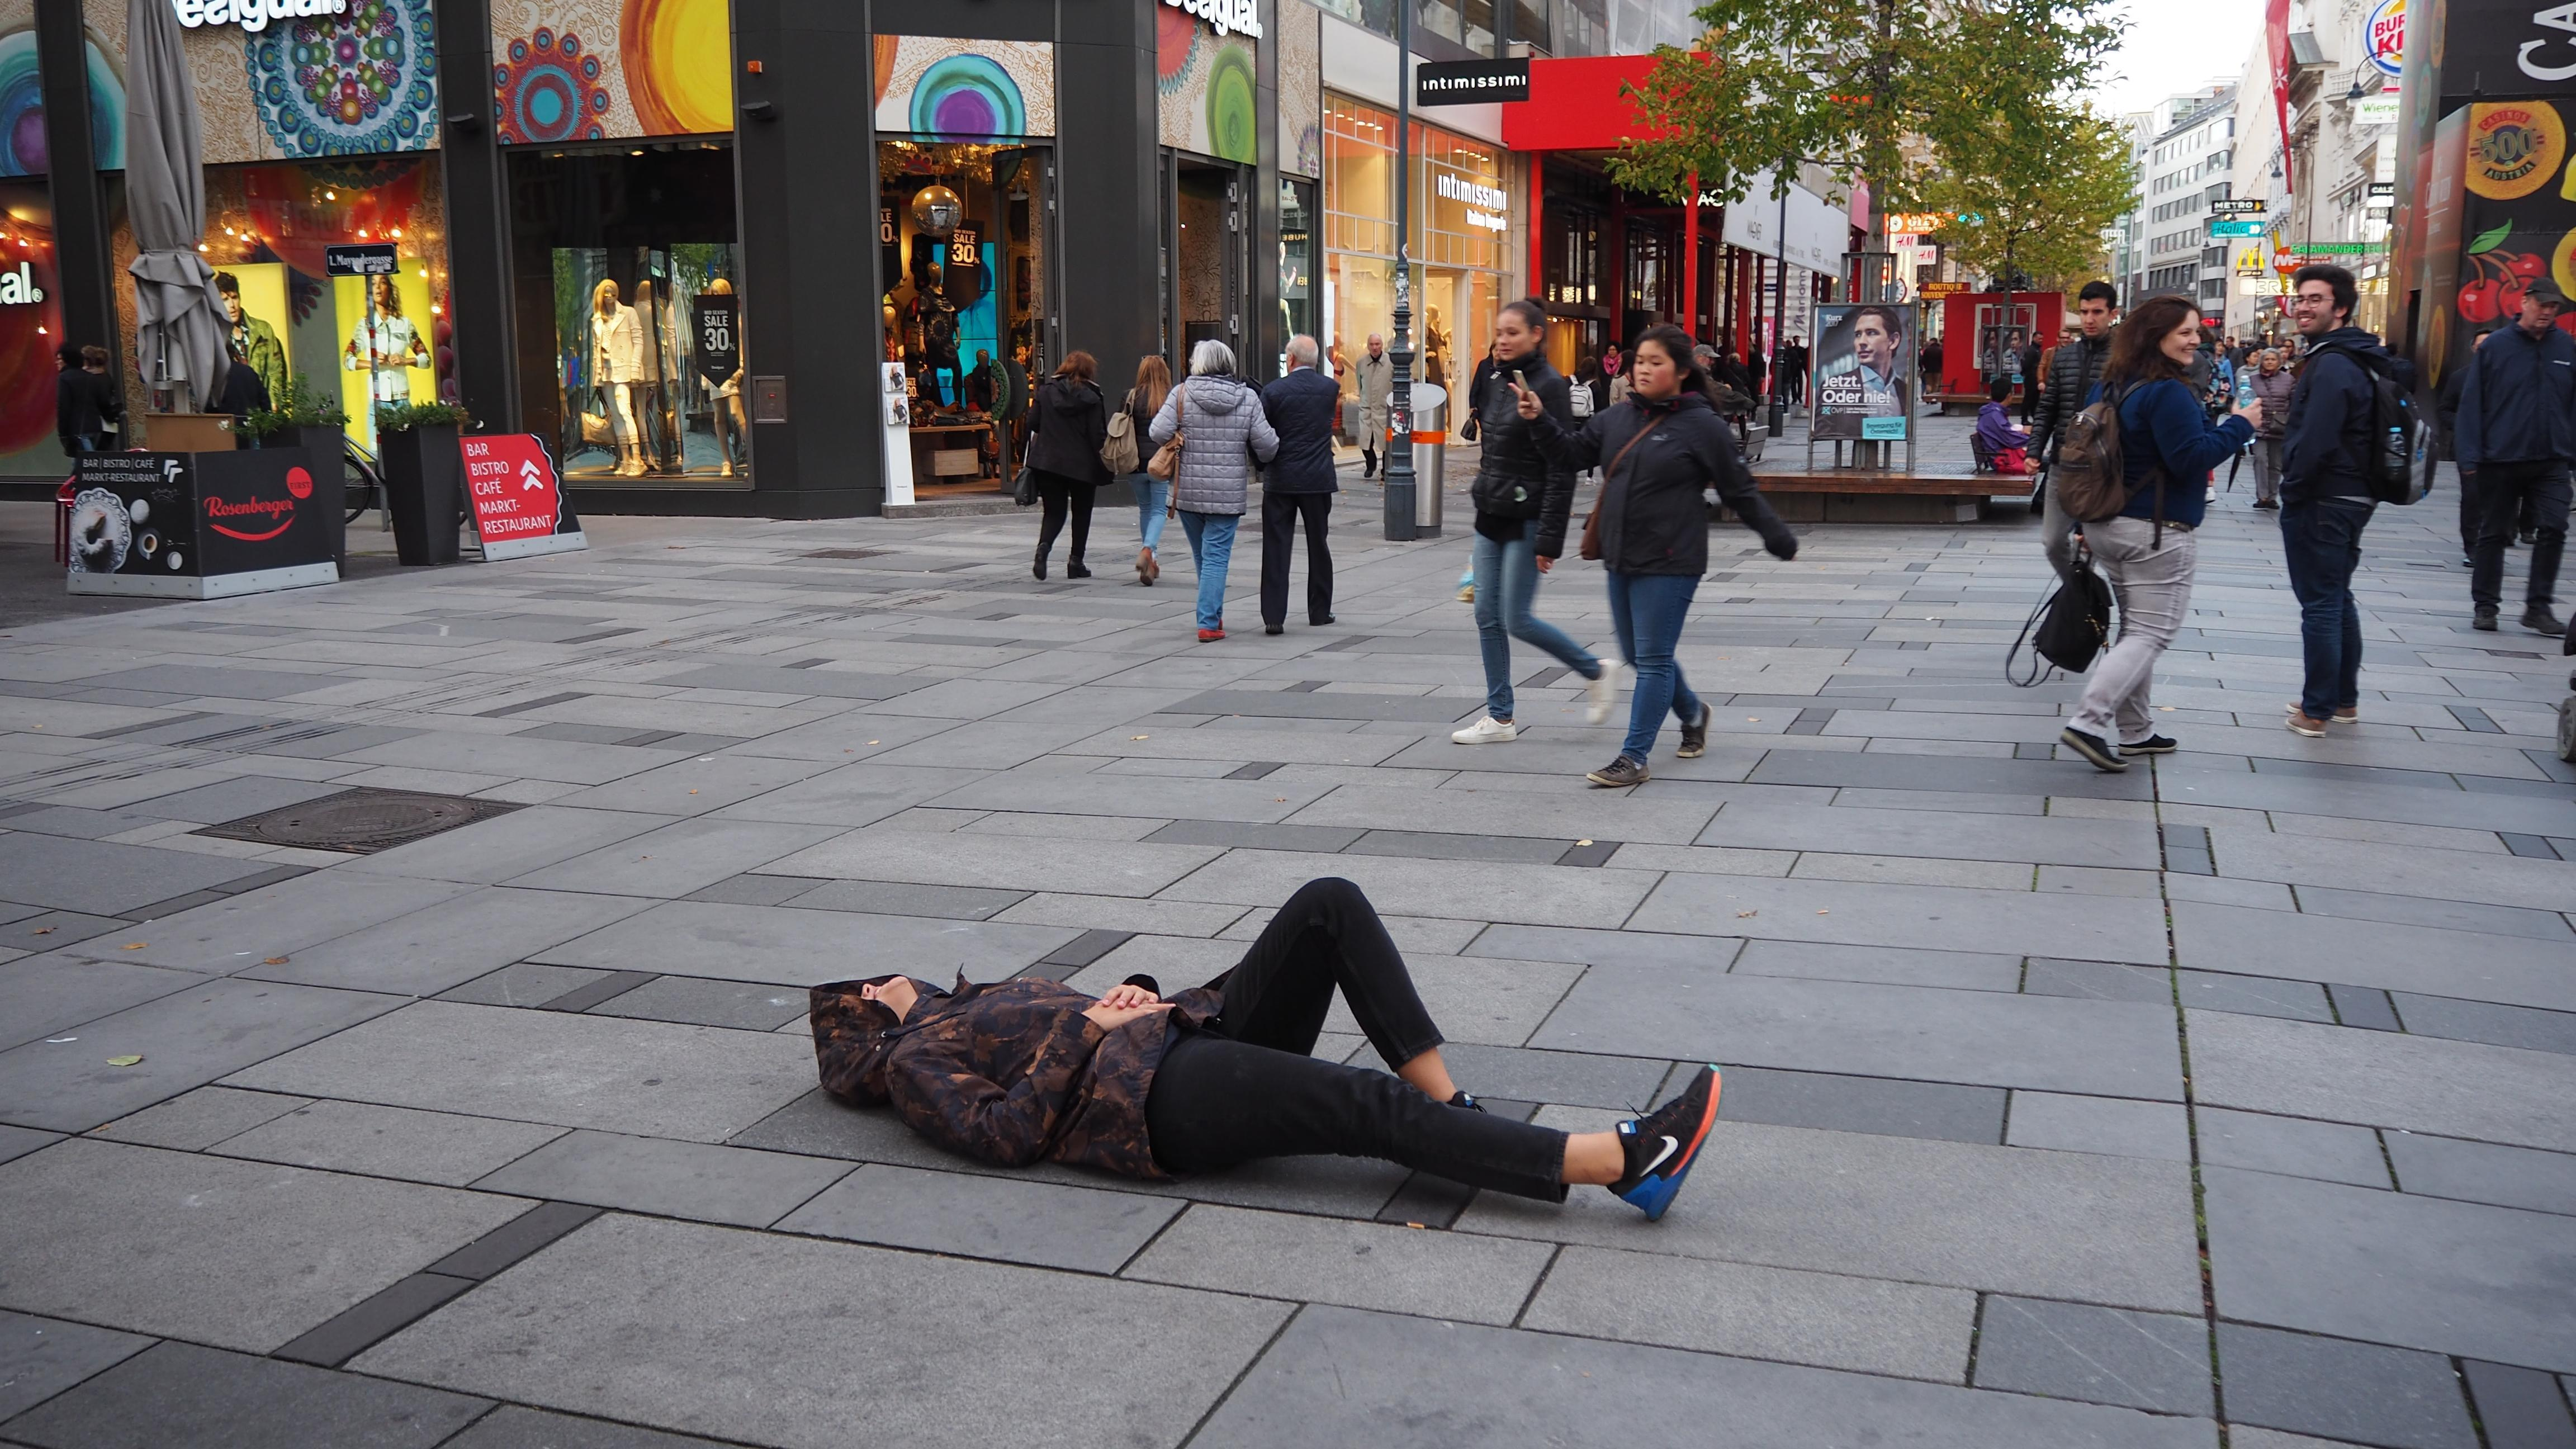Fall-Detected: (768, 847, 1764, 1256)
